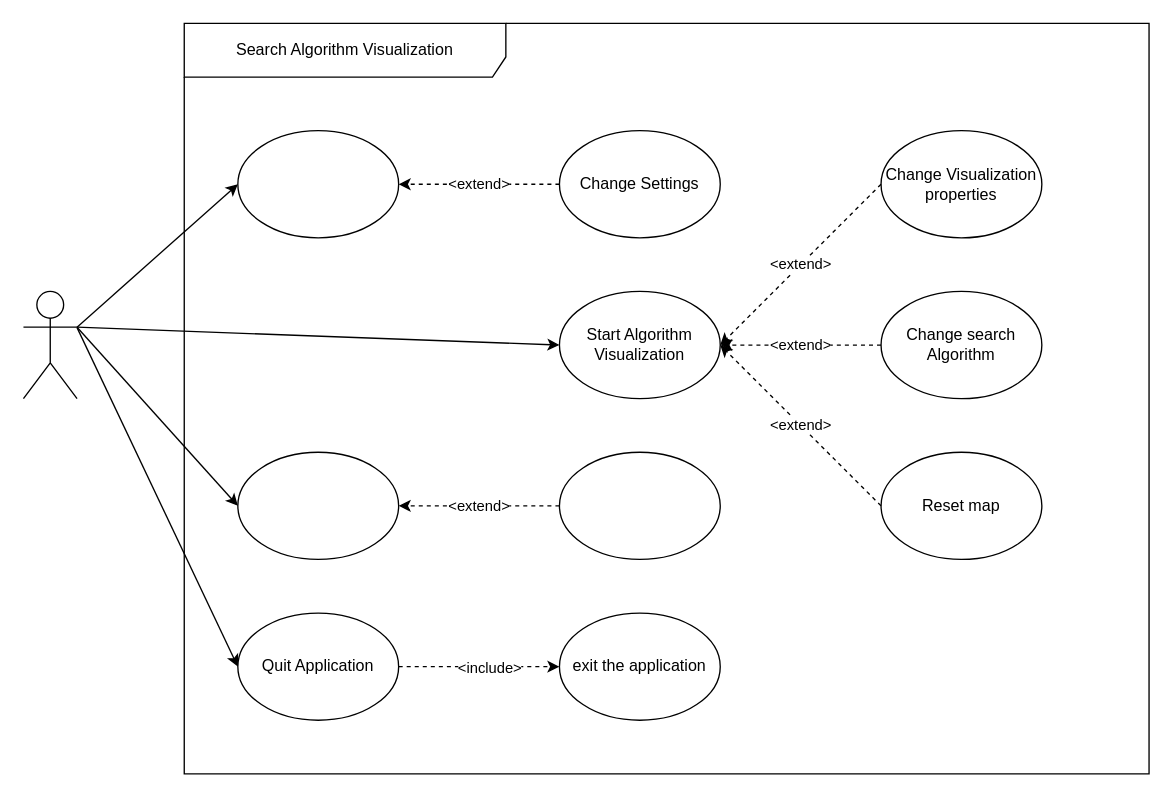
The diagram is 1173 pixels wide and 797 high, and some of its shapes have lost their labels. Each missing label, with the centre of its shape:
Application Wiki: the point at 318,505
Tool Settings: the point at 318,183
User: the point at 49,344
Viewing different Wiki Entries: the point at 639,505
